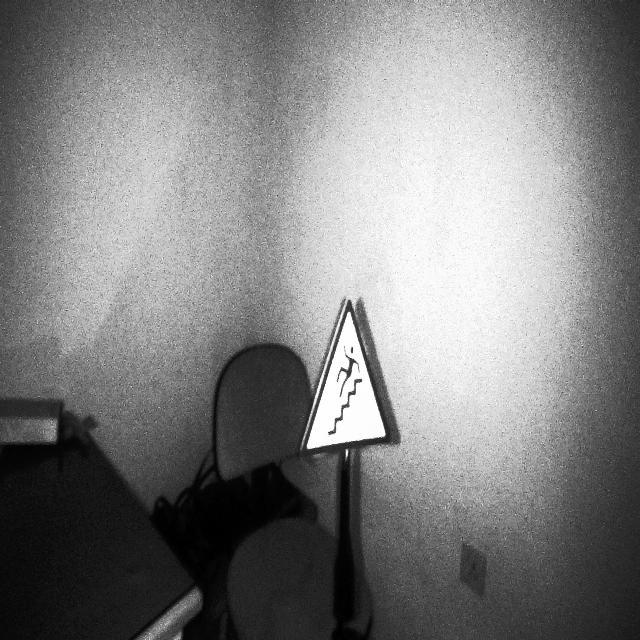Sign: (299, 296, 393, 462)
